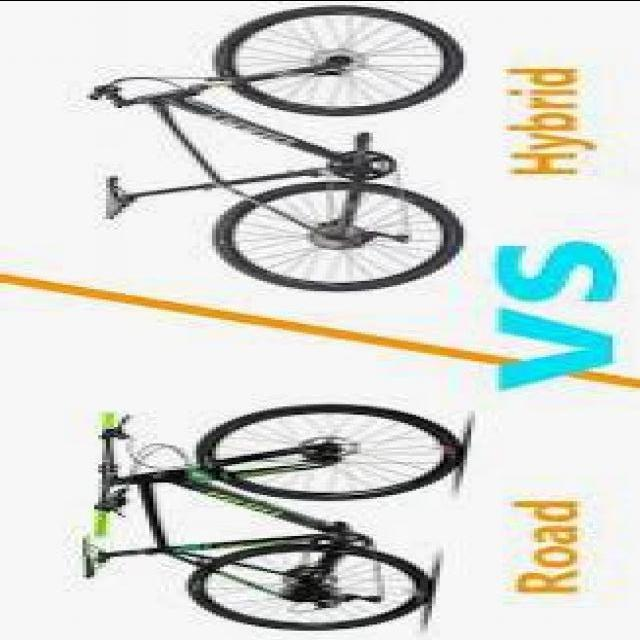bicycle: (92, 1, 469, 291), (84, 399, 465, 631)
